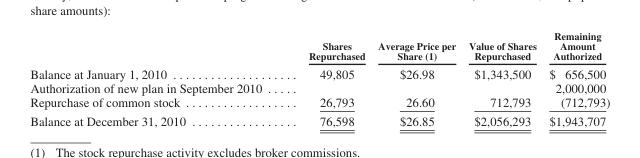table: (29, 29, 609, 127)
table column: (29, 29, 284, 127), (371, 29, 461, 127), (284, 29, 371, 127), (461, 29, 542, 127), (542, 29, 609, 127)
table column header: (29, 29, 609, 63)
table row: (29, 29, 609, 63), (29, 63, 609, 80), (29, 110, 609, 127), (29, 94, 609, 110), (29, 80, 609, 94)
